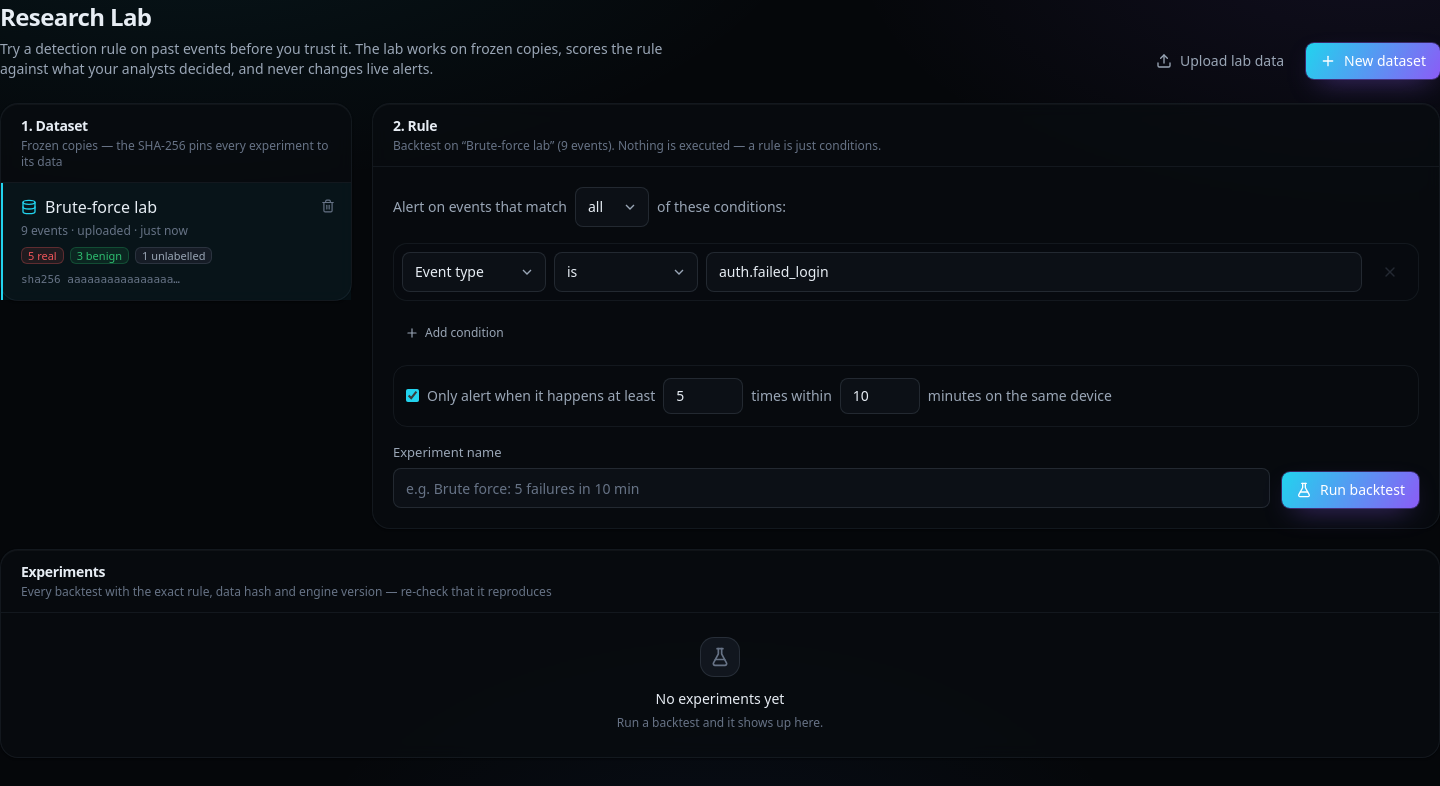
Test case: LabPage › runs a backtest and explains the score in plain words
expect the text "5 real" is shown: met, box [21, 246, 64, 264]
Select "Severity" in the dropdown named "Field 1": (474, 272) [402, 252, 546, 292]
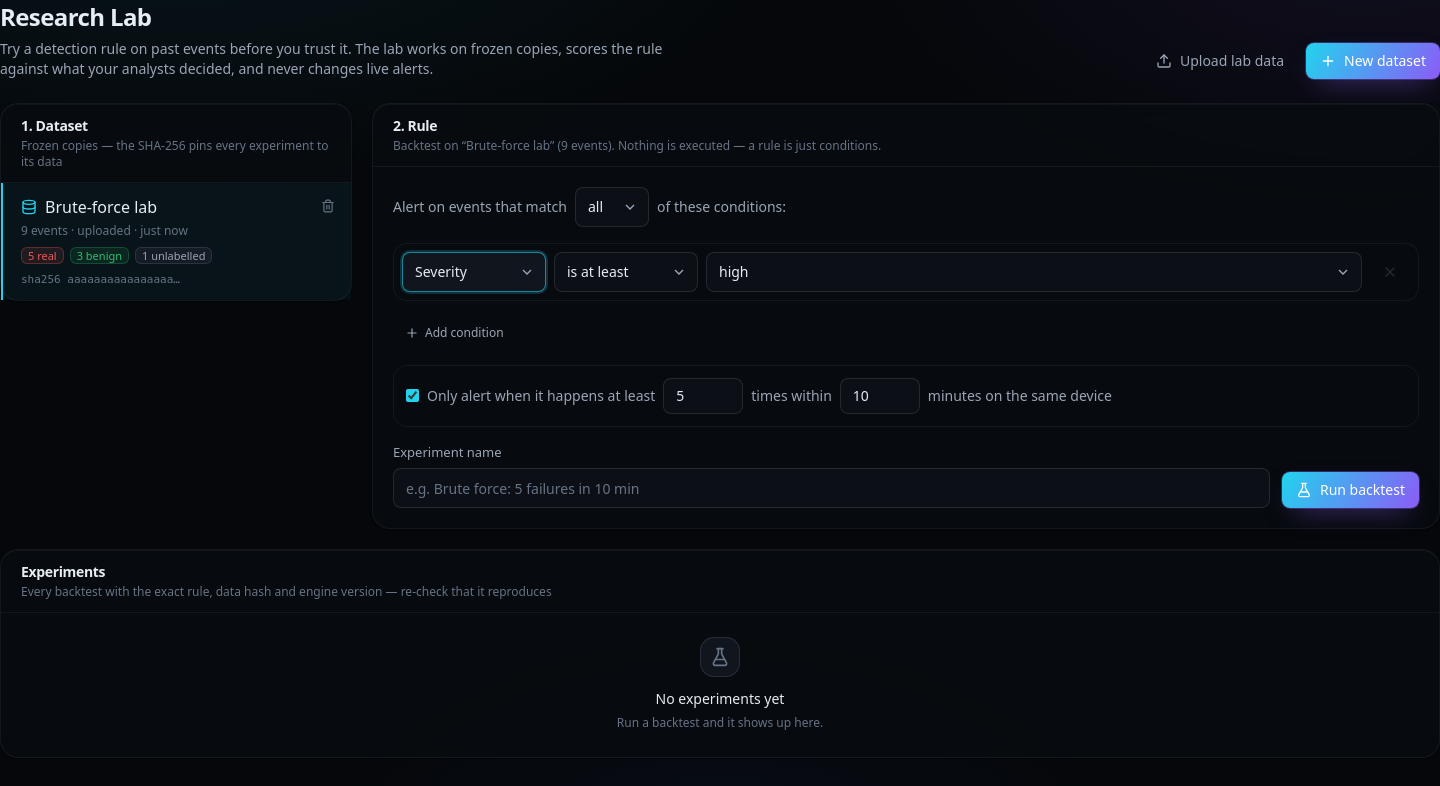
expect the dropdown named "Operator 1" shows "is at least": met, box [554, 252, 698, 292]
Select "Event type" in the dropdown named "Field 1": (474, 272) [402, 252, 546, 292]
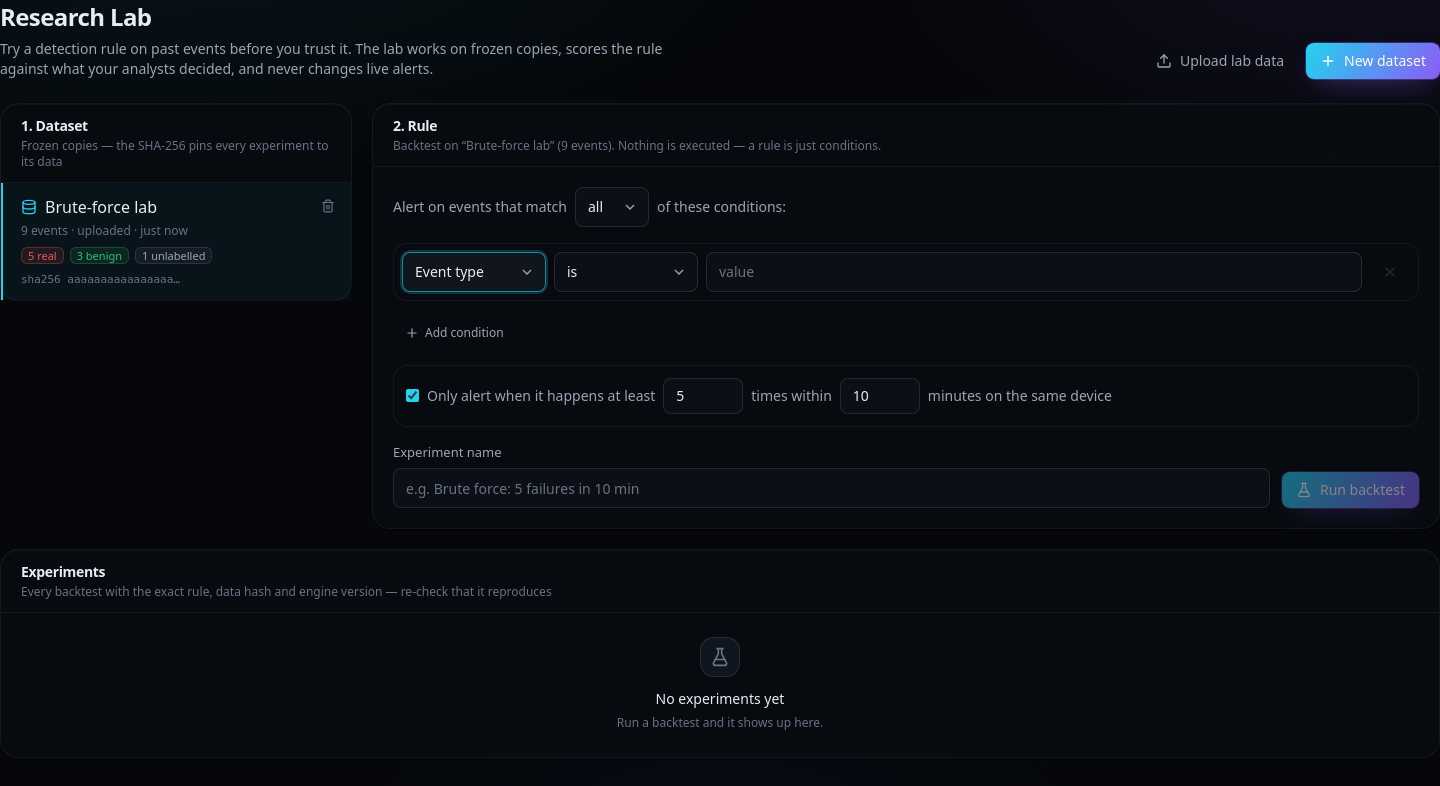
In the field named "Value 1": (1034, 272) [706, 252, 1362, 292], type "auth.failed_login"
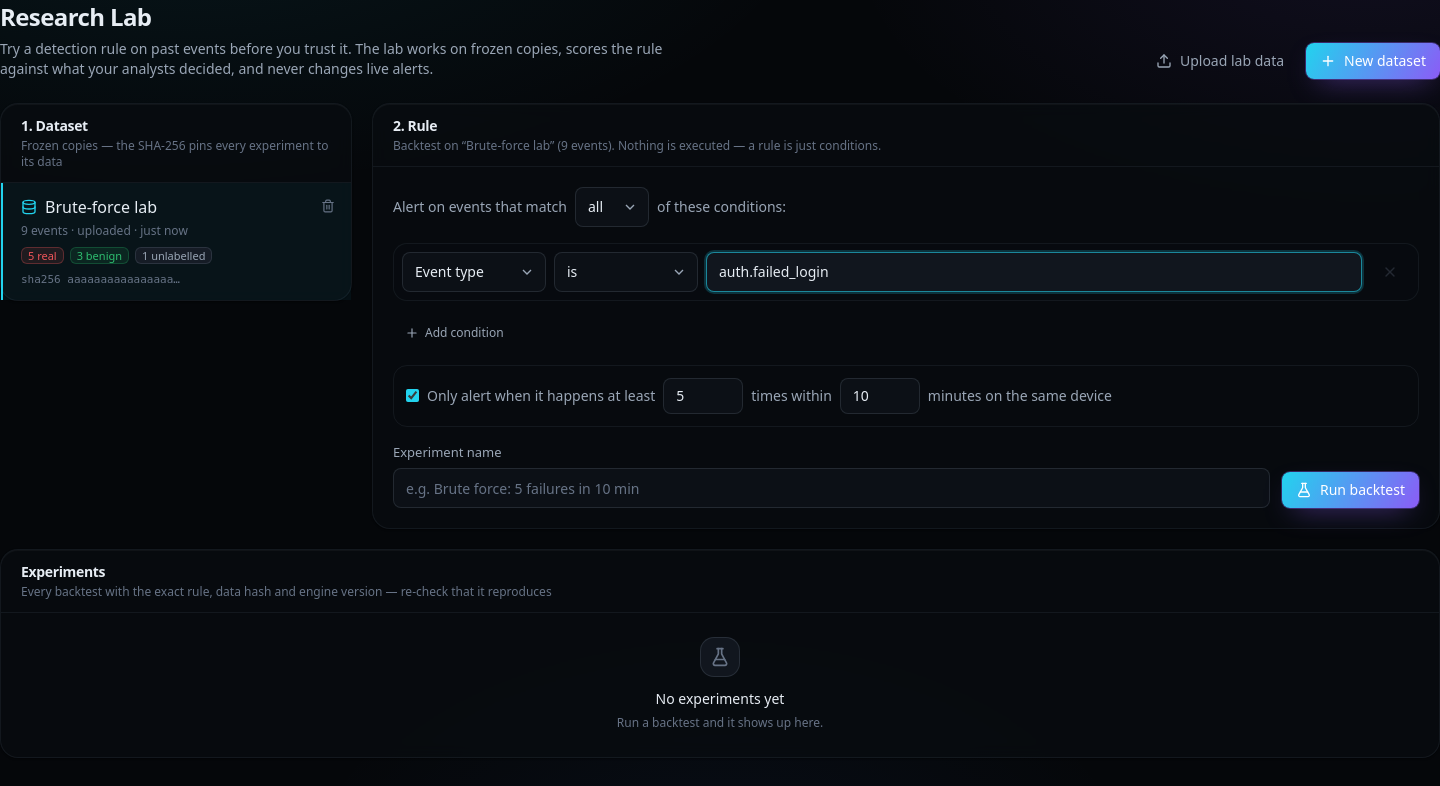
Replace the text in the number field named "Count" with "3": (703, 396) [663, 378, 743, 414]
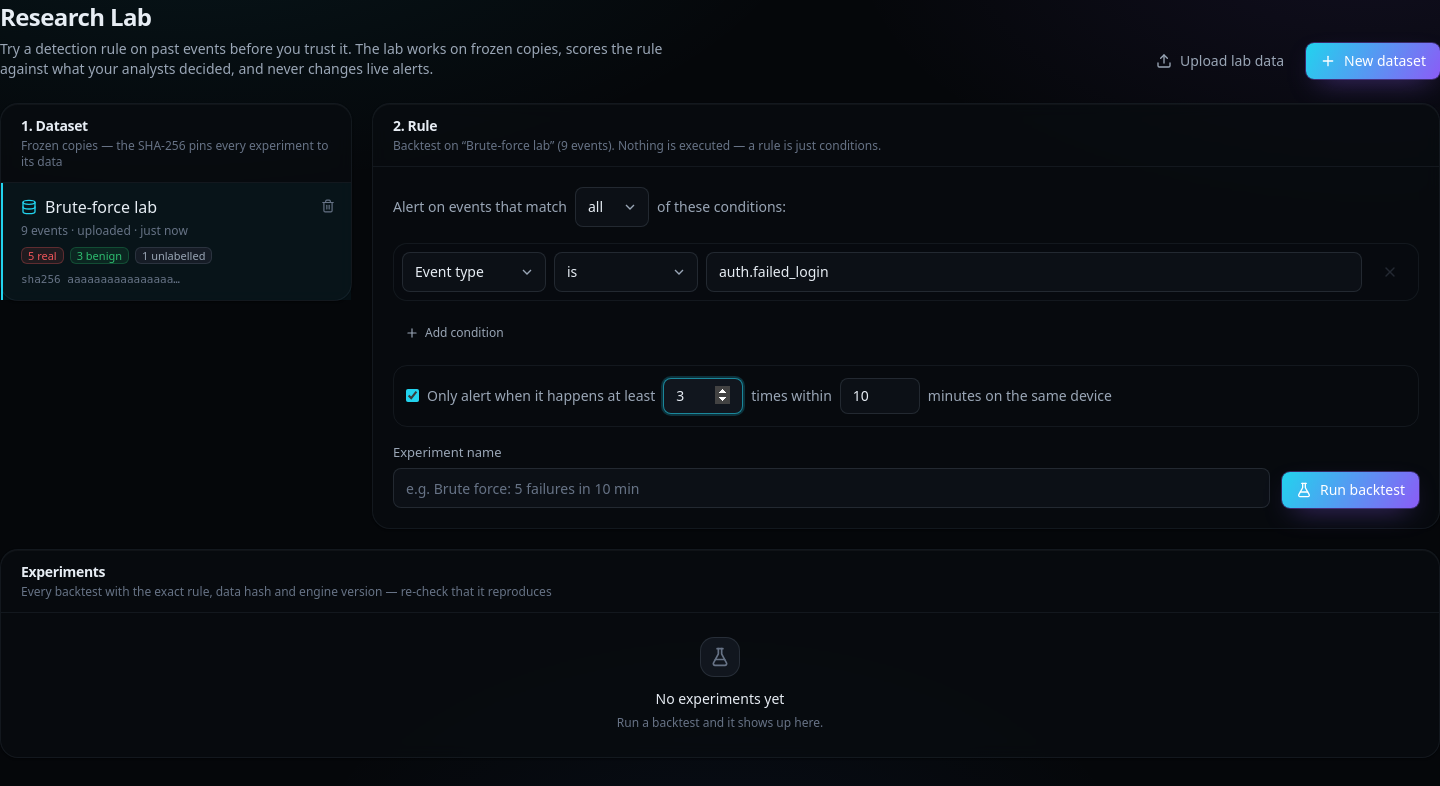
Click the button "Run backtest": (1350, 490) [1282, 472, 1419, 508]
(page scrolled)
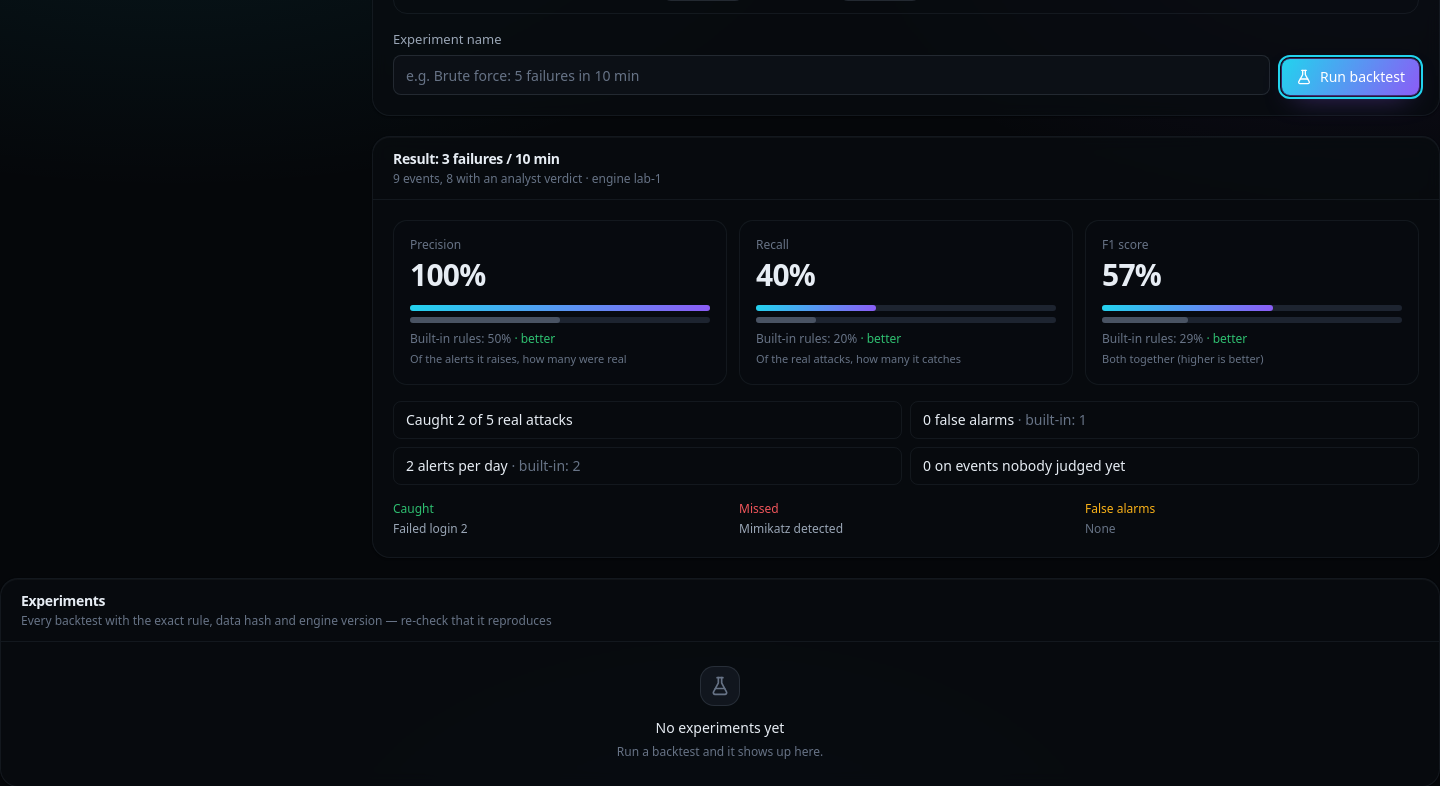
expect the text "Caught 2 of 5 real attacks" is shown: met, box [406, 410, 573, 428]
expect the text "Of the real attacks, how many it catches" is shown: met, box [756, 351, 961, 366]
expect the list item "Mimikatz detected" is shown: met, box [739, 520, 843, 536]
